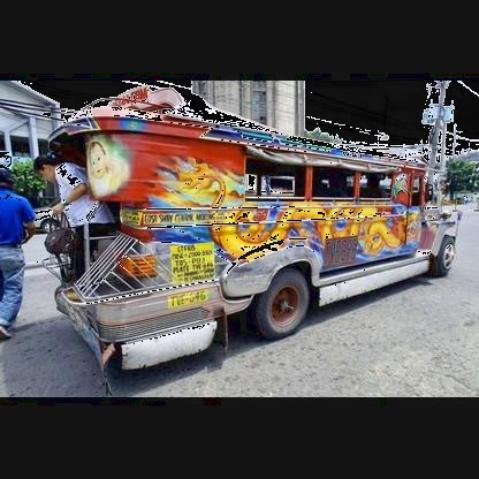jeepney: (38, 73, 466, 394)
